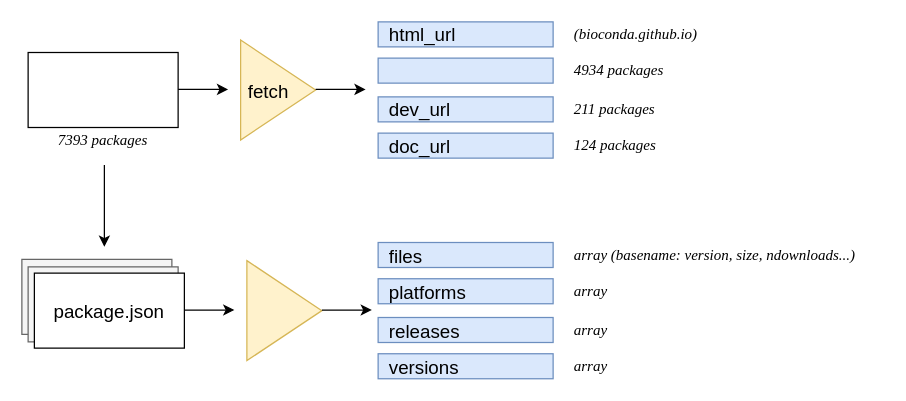
This 906x401 diagram has some shape labels left out. Each missing label, with the centre of its shape:
"bioconda.json" belongs at (102,89).
"home" belongs at (465,70).
"store" belongs at (284,310).
